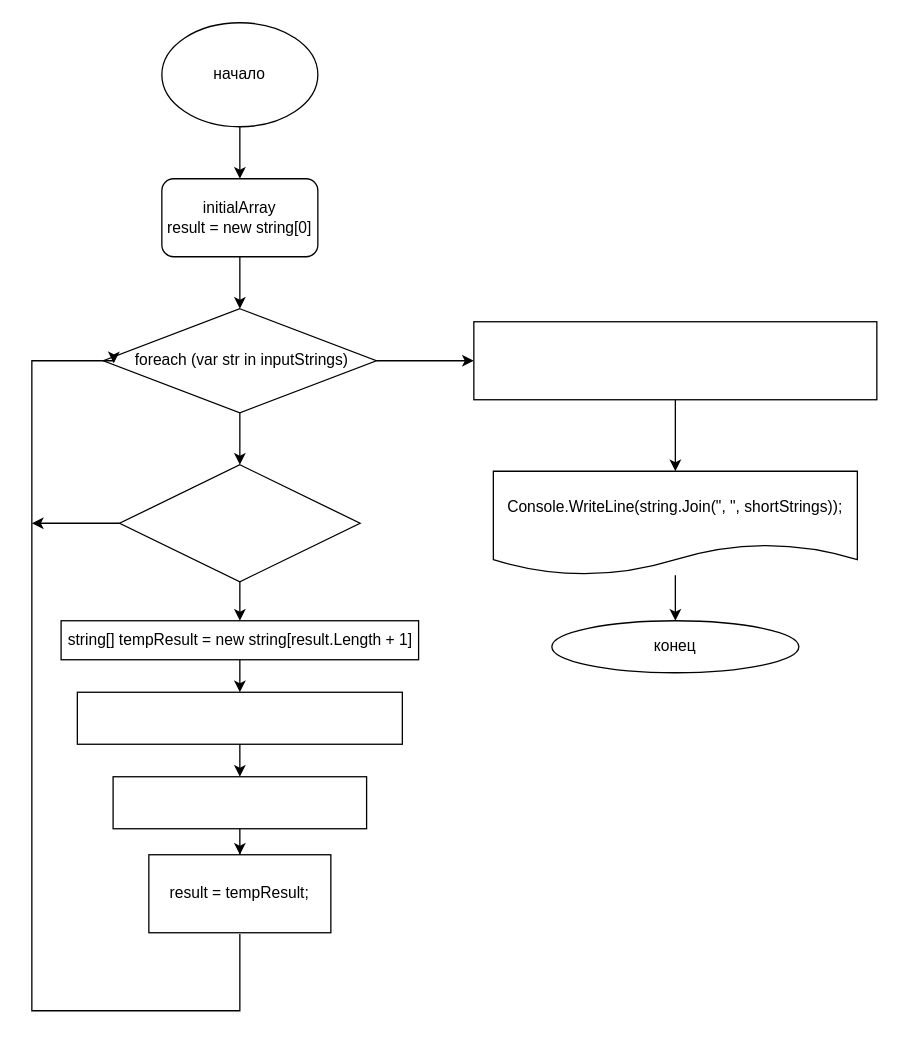
This 900x1044 diagram has some shape labels left out. Here are the shapes that lost their labels. From the top down, the centre of each, then its label:
At (x=675, y=360): "string[] shortStrings = FilterShortStrings(initialArray);".
At (x=239, y=522): "if (str.Length <= 3)".
At (x=239, y=717): "Array.Copy(result, tempResult, result.Length)".
At (x=239, y=802): "tempResult[result.Length] = str;".
